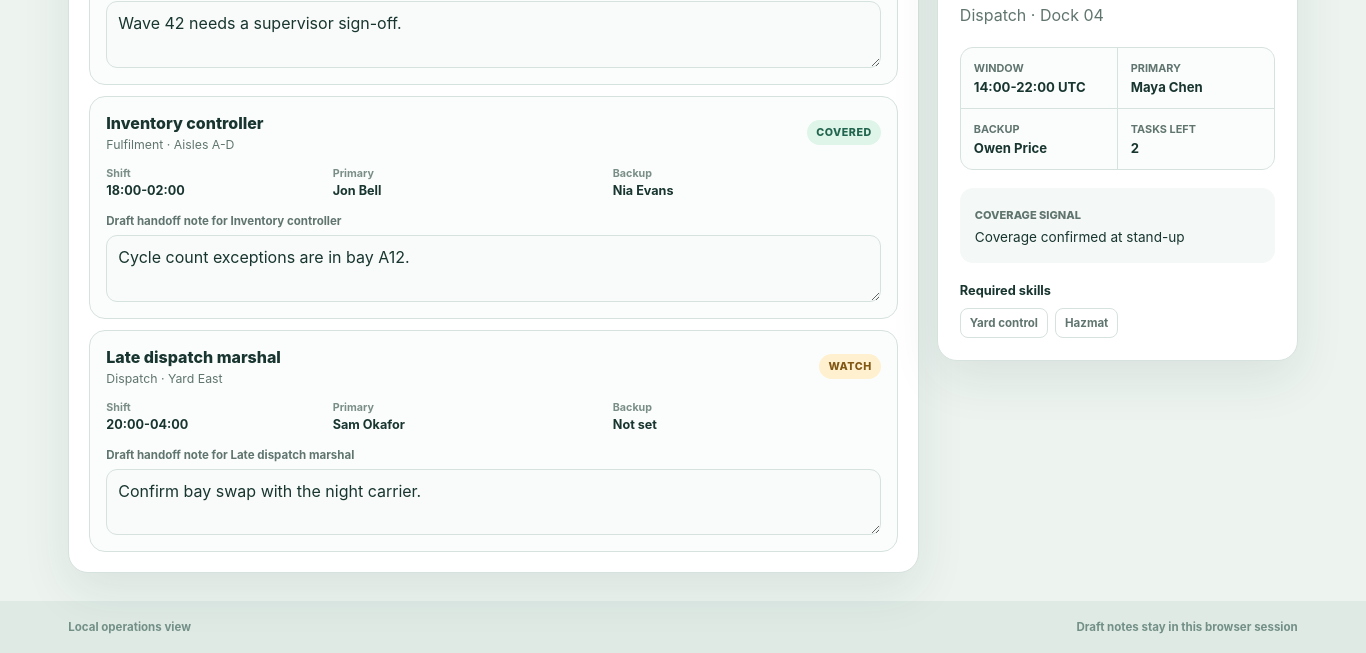
Test: Roster Pulse › opens the selected shift detail
(page scrolled)
Click the button "Late dispatch marshal" at (194, 357), box x1=90 y1=331 x2=897 y2=448
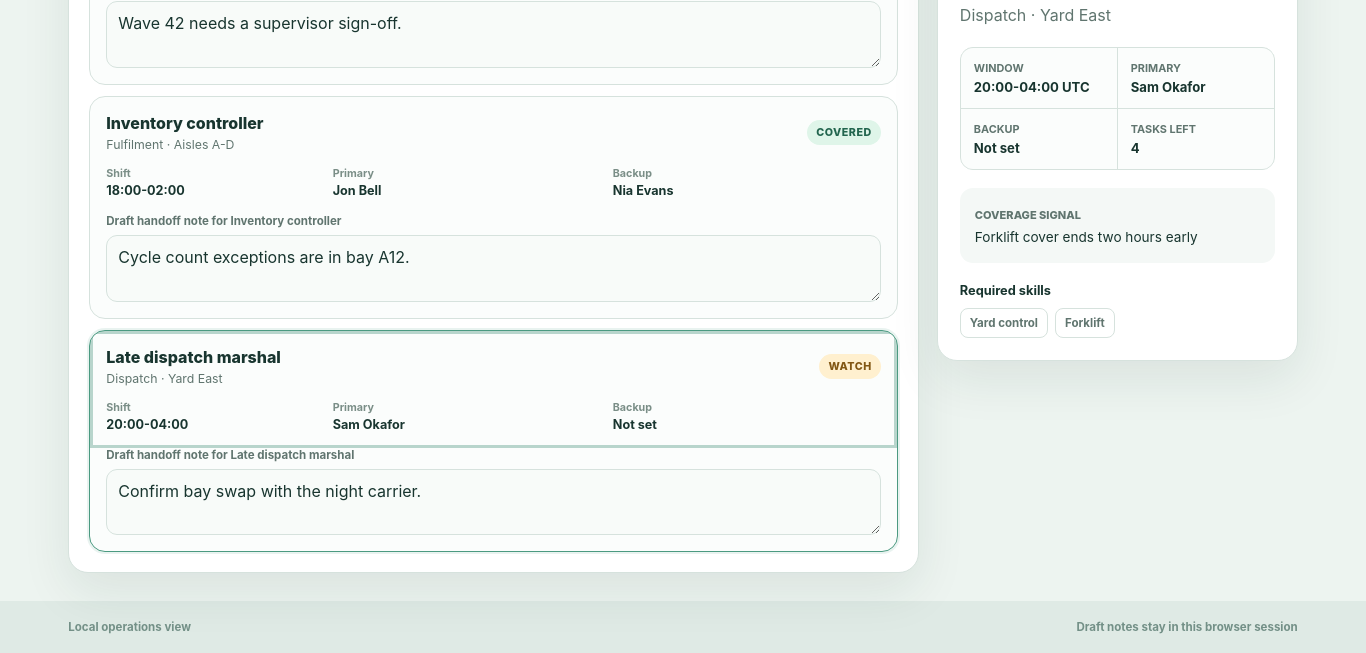
Now the text "Forklift cover ends two hours early" is shown, box x1=975 y1=229 x2=1198 y2=245
